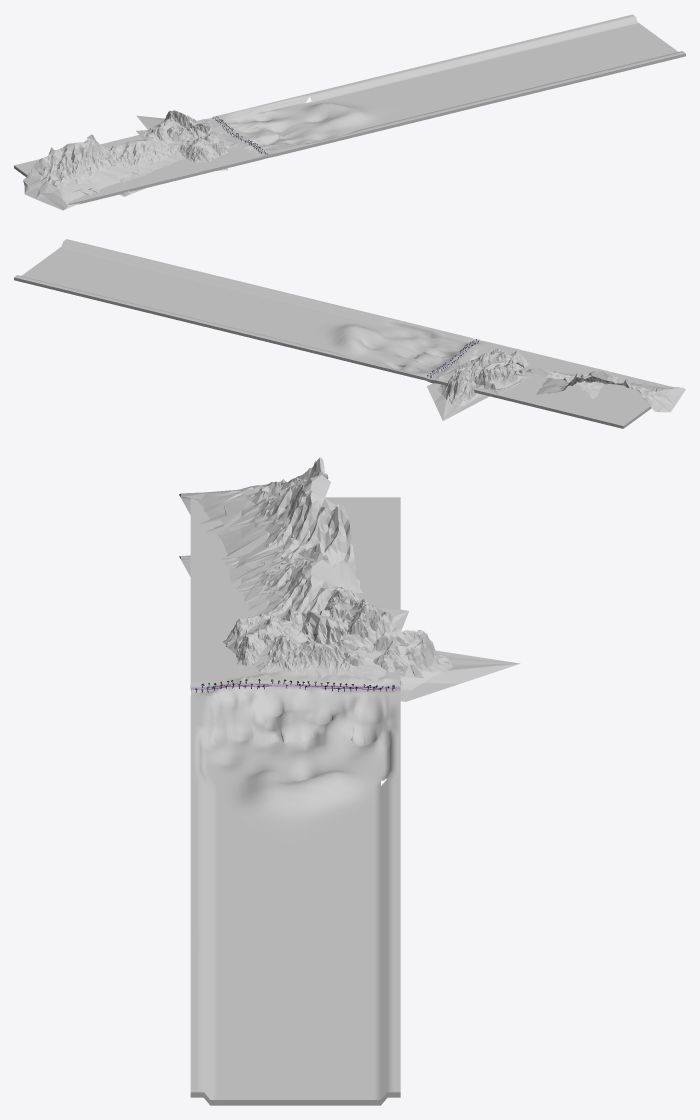
The model's file is Beach3.FBX.
3 renders of one model, top to bottom at view 1: azimuth 30°, elevation 25°; view 2: azimuth 150°, elevation 25°; view 3: azimuth 270°, elevation 25°, orthographic. The views are drawn at different scales.
Visible parts, largest first — view 1: grunt, Plane023; view 2: grunt, Plane023; view 3: grunt, Plane023.
Boxes of the visible parts, bbox=[...] form: grunt: bbox=[14, 14, 685, 204]; Plane023: bbox=[23, 110, 231, 210]; grunt: bbox=[14, 239, 673, 428]; Plane023: bbox=[427, 348, 685, 420]; grunt: bbox=[190, 497, 400, 1105]; Plane023: bbox=[179, 457, 520, 701].
Bounding box in the file's own units: 16570 × 3910 × 972.
